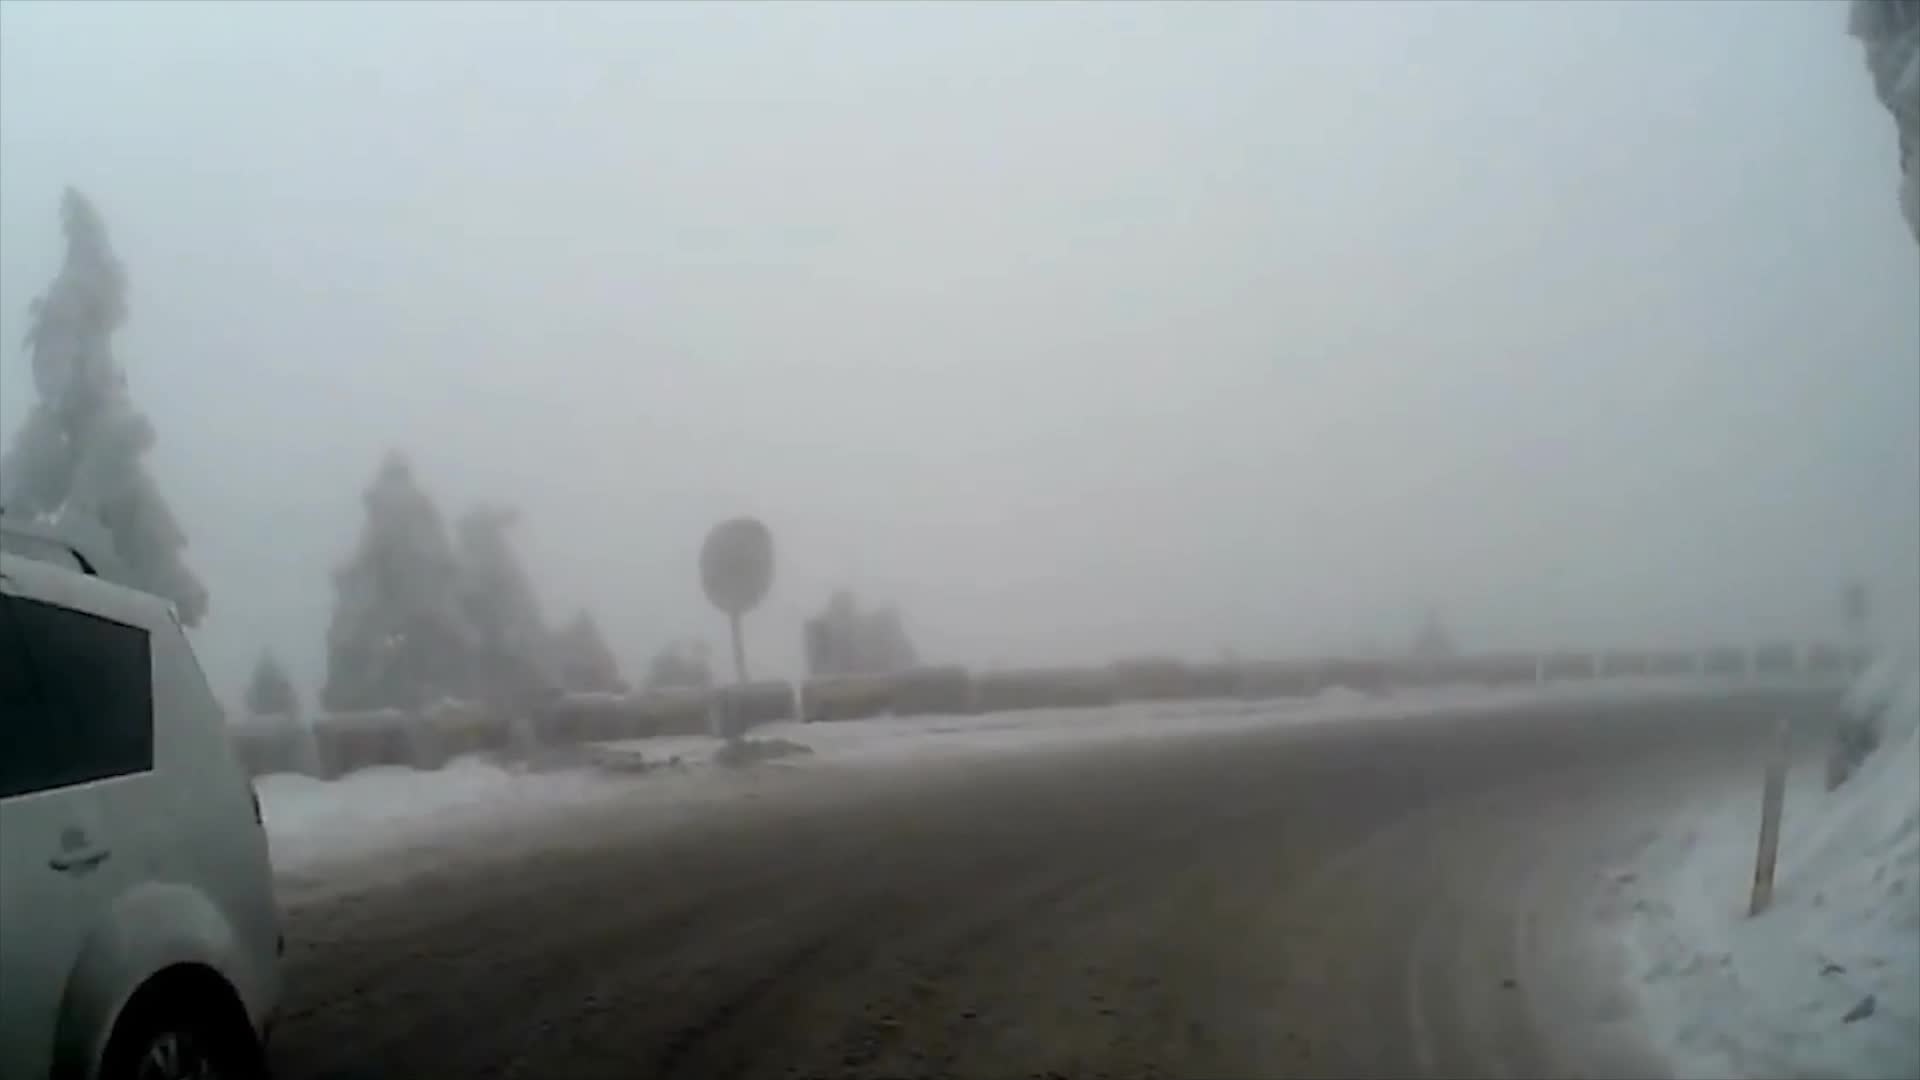vehicle: (0, 520, 286, 1080)
